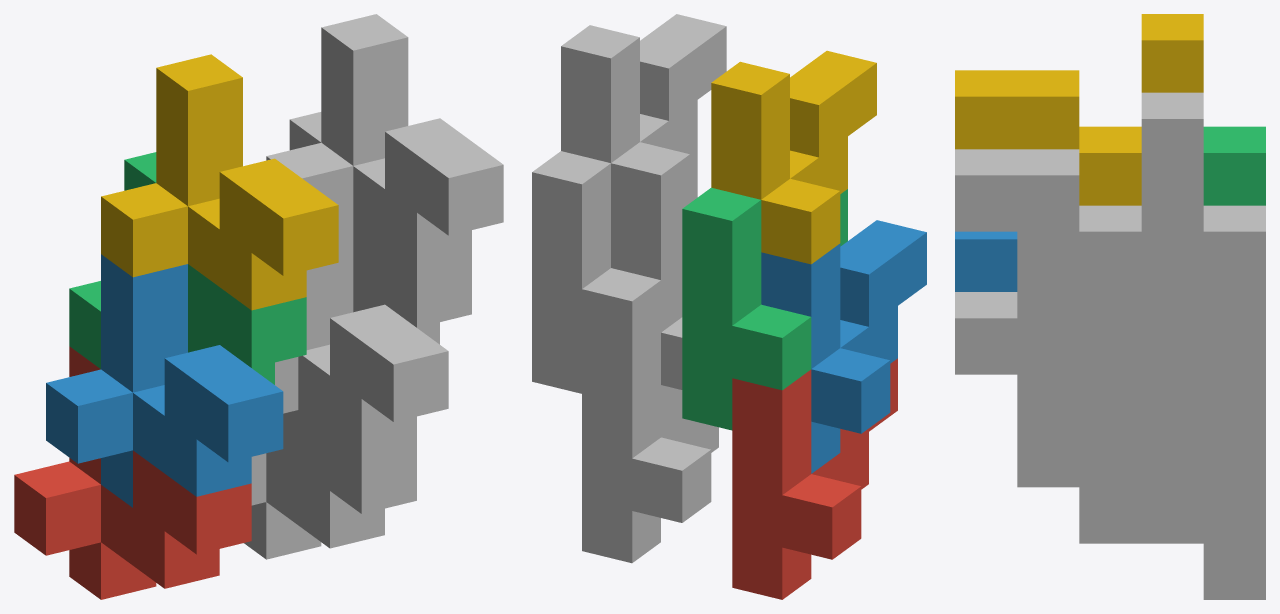
The model's file is tiling.obj.
The picture shows the model from 3 angles, left to right: view 1: azimuth 30°, elevation 25°; view 2: azimuth 150°, elevation 25°; view 3: azimuth 270°, elevation 25°; orthographic projection. The views are drawn at different scales.
Parts seen in each view (by area): view 1: copy_1_domain_4, copy_1_domain_2, copy_1_domain_8, copy_1_domain_1, copy_1_domain_6, copy_1_domain_5, copy_1_domain_3, copy_1_domain_7; view 2: copy_1_domain_4, copy_1_domain_8, copy_1_domain_1, copy_1_domain_2, copy_1_domain_5, copy_1_domain_3, copy_1_domain_7, copy_1_domain_6; view 3: copy_1_domain_8, copy_1_domain_7, copy_1_domain_5, copy_1_domain_4, copy_1_domain_6, copy_1_domain_3, copy_1_domain_2.
Part boxes in pixels (<box>): copy_1_domain_4: <box>101,54,338,310</box>; copy_1_domain_2: <box>46,254,283,507</box>; copy_1_domain_8: <box>266,14,503,269</box>; copy_1_domain_1: <box>14,346,251,599</box>; copy_1_domain_6: <box>275,224,448,467</box>; copy_1_domain_5: <box>244,410,416,559</box>; copy_1_domain_3: <box>69,152,306,384</box>; copy_1_domain_7: <box>289,112,471,344</box>; copy_1_domain_4: <box>711,50,876,264</box>; copy_1_domain_8: <box>561,14,726,227</box>; copy_1_domain_1: <box>732,358,897,599</box>; copy_1_domain_2: <box>761,220,926,473</box>; copy_1_domain_5: <box>582,333,718,563</box>; copy_1_domain_3: <box>682,187,847,430</box>; copy_1_domain_7: <box>532,151,697,393</box>; copy_1_domain_6: <box>611,212,685,436</box>; copy_1_domain_8: <box>955,92,1203,344</box>; copy_1_domain_7: <box>1017,205,1265,457</box>; copy_1_domain_5: <box>1017,431,1265,599</box>; copy_1_domain_4: <box>955,14,1203,205</box>; copy_1_domain_6: <box>955,292,1203,487</box>; copy_1_domain_3: <box>1203,126,1265,205</box>; copy_1_domain_2: <box>955,231,1017,291</box>.
Size of the model in its own units: 6 by 9 by 5.
